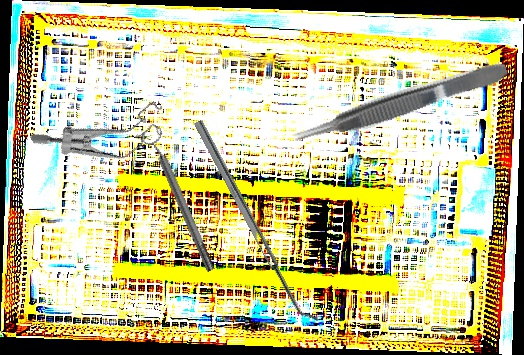Fixation Ring: (138, 124, 222, 276)
Spatula Surgical: (193, 115, 319, 328)
Speculum: (28, 63, 176, 198)
Tissue Forceps: (289, 58, 512, 151)
